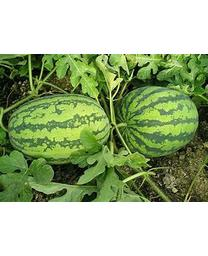watermelon: (7, 93, 110, 163), (120, 84, 200, 155)
